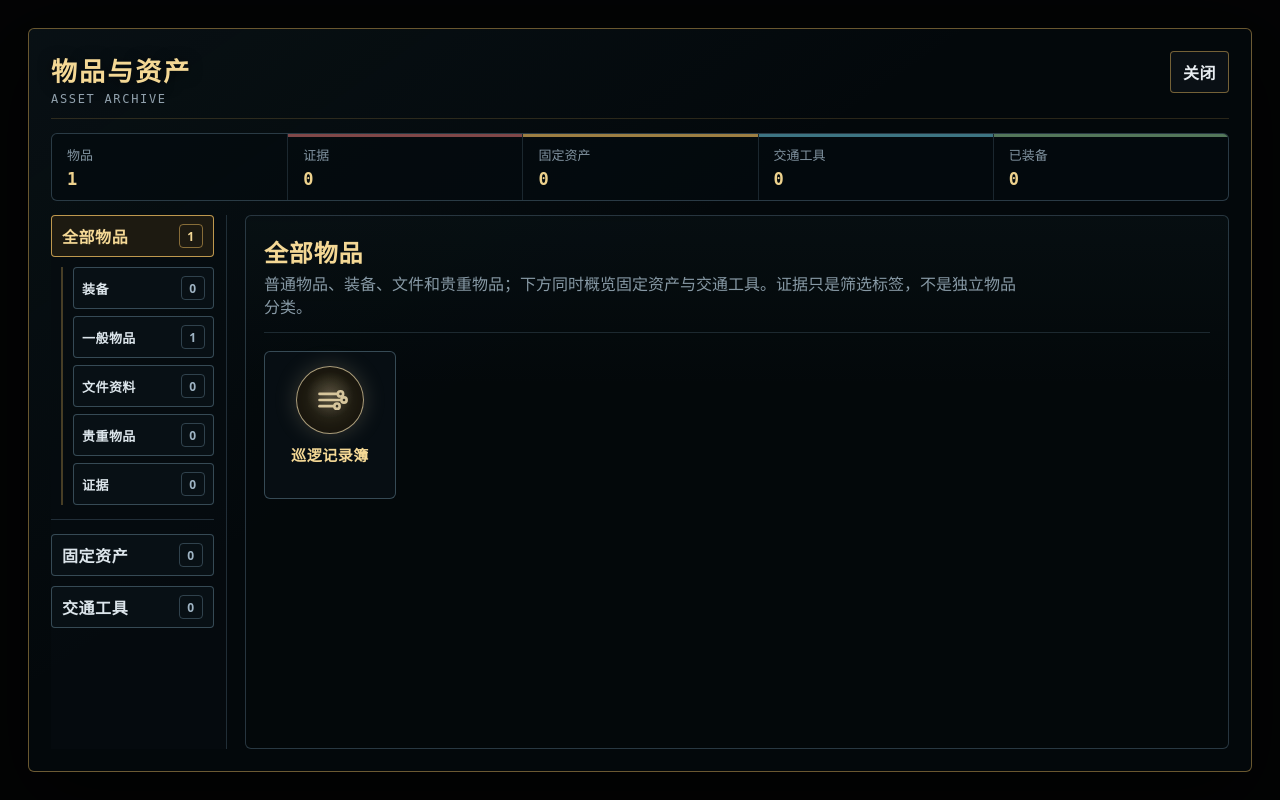
AssetArchiveModal › opens detail instead of mutating state for non-equipment items
Click the button "巡逻记录簿". click: (330, 425)
box: [264, 351, 396, 499]
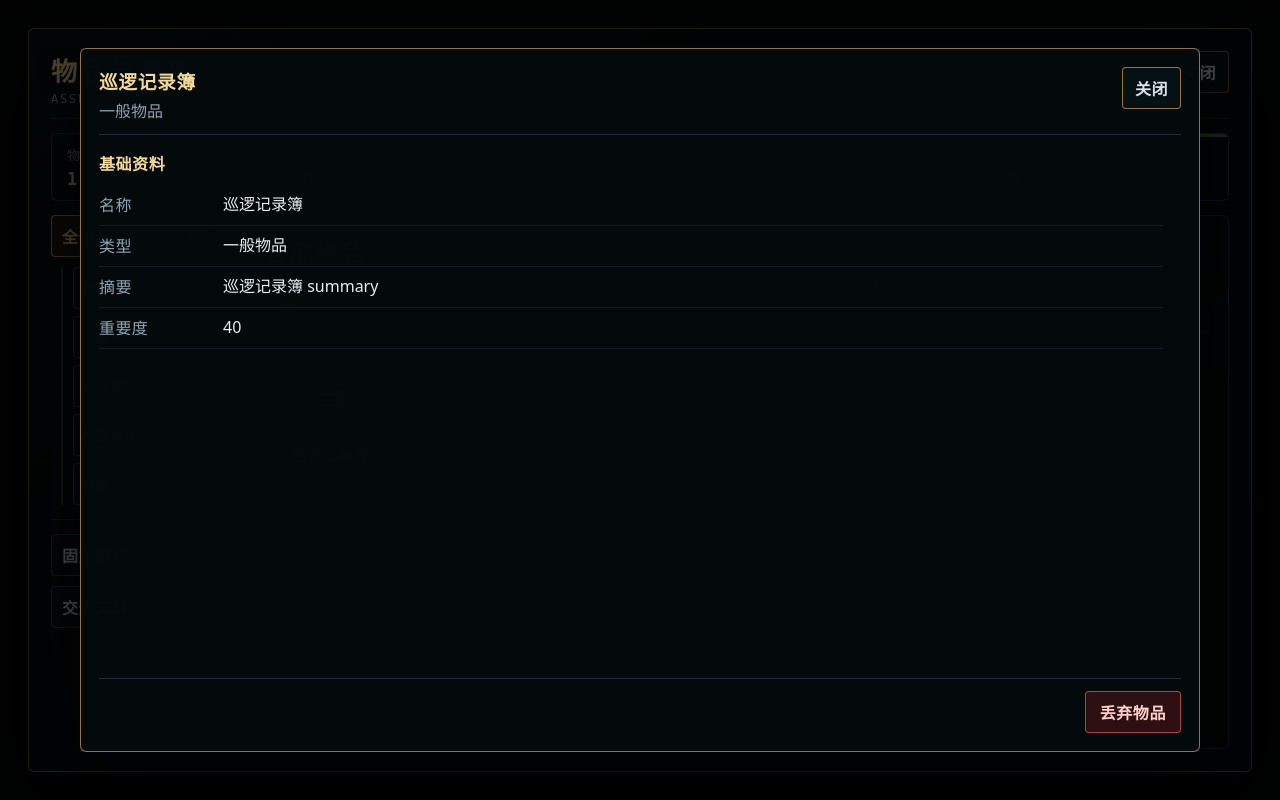
Expected: the dialog named "巡逻记录簿详情" is shown
